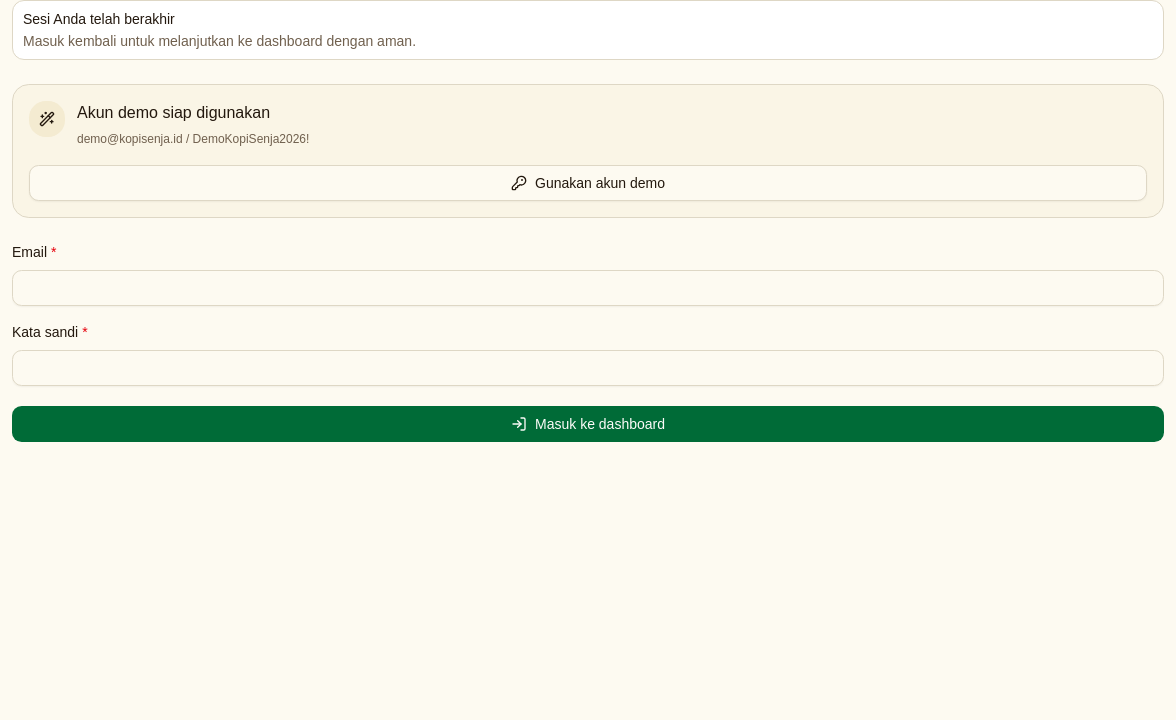
Test: LoginForm › shows expired-session and invalid-credential messages
The image size is (1176, 720).
Check: the text "Sesi Anda telah berakhir" is shown, box [23, 11, 175, 27]
Type "demo@kopisenja.id" into the field labelled "Email*". click: (588, 288)
box: [12, 270, 1164, 306]
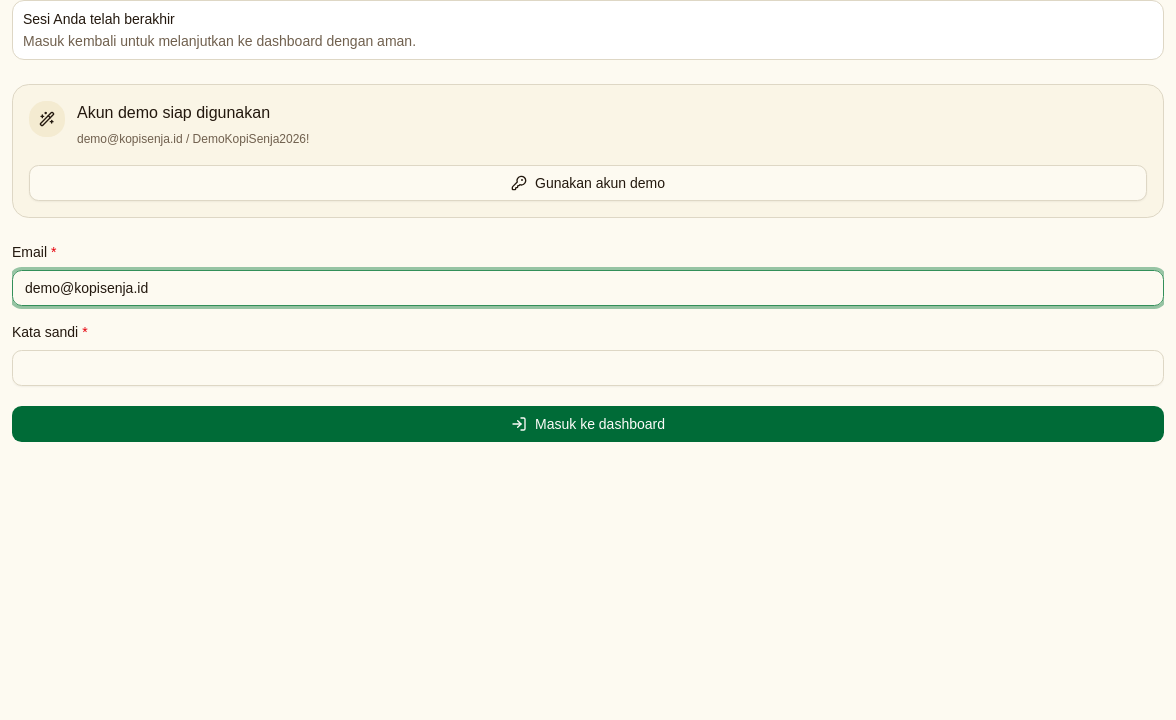
Type "wrong-password" into the password field labelled "Kata sandi*". click: (588, 368)
box: [12, 350, 1164, 386]
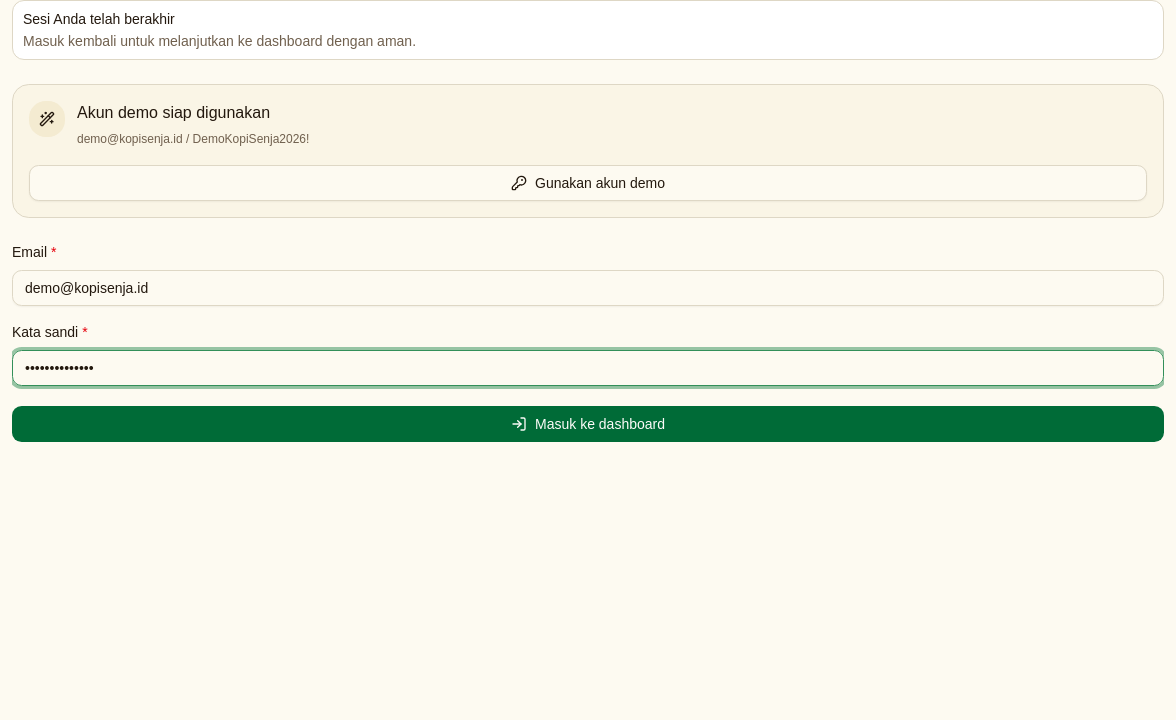
Click the button "Masuk ke dashboard". click: (588, 424)
box: [12, 406, 1164, 442]
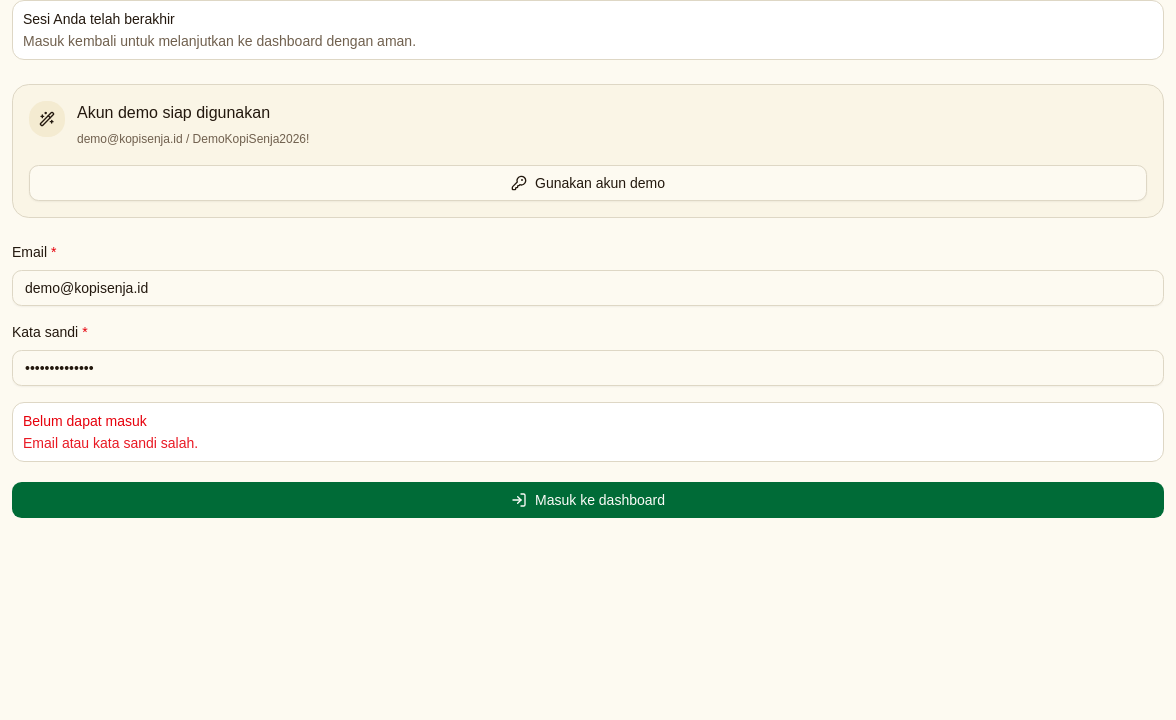
Check: the text "Email atau kata sandi salah." is shown, box [23, 435, 198, 451]
